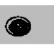correct: (2, 14, 32, 38)
